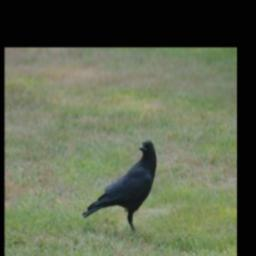Crow: (82, 137, 157, 233)
